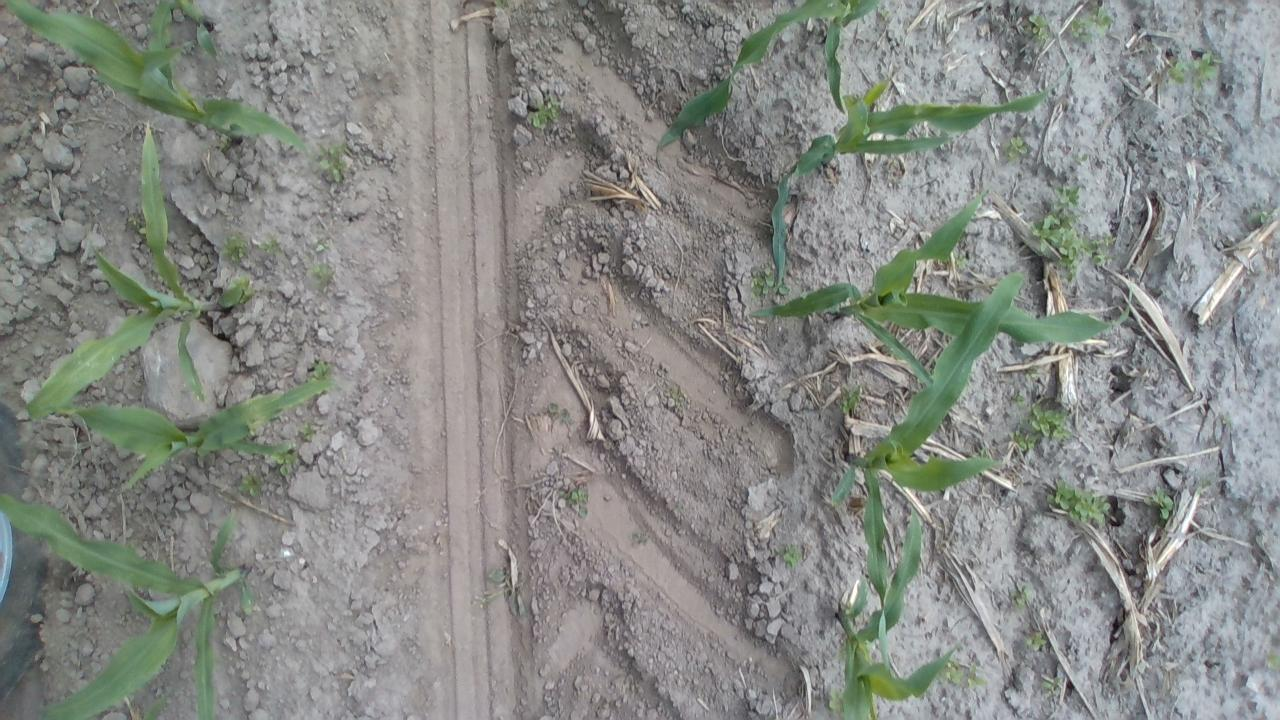Maize: (735, 166, 1134, 398), (828, 257, 1014, 652), (22, 115, 244, 420), (763, 55, 1049, 290), (0, 489, 258, 720), (2, 0, 320, 157), (43, 360, 337, 494), (652, 0, 878, 160), (830, 498, 950, 716), (155, 0, 224, 67), (138, 685, 183, 720)
Weeds: (1028, 201, 1087, 278), (1045, 478, 1110, 526), (1162, 48, 1222, 92), (312, 138, 357, 188), (1020, 404, 1074, 445), (1069, 4, 1114, 45), (481, 564, 515, 608), (939, 659, 988, 689), (523, 95, 561, 132), (1144, 486, 1178, 524), (747, 268, 786, 301), (562, 482, 592, 518), (1086, 232, 1117, 266), (1023, 12, 1053, 46), (1002, 134, 1034, 165), (217, 234, 250, 264), (237, 467, 266, 500), (838, 380, 863, 416), (778, 540, 806, 572), (270, 449, 296, 480), (1008, 428, 1039, 454), (1246, 201, 1276, 227), (1008, 581, 1033, 610), (306, 358, 336, 382), (1052, 182, 1082, 206), (311, 260, 334, 289), (824, 686, 846, 716), (1038, 673, 1064, 698), (547, 403, 573, 427), (125, 210, 149, 236), (666, 384, 688, 408), (1024, 630, 1048, 652), (1194, 474, 1215, 499), (258, 234, 280, 256), (628, 528, 652, 547), (298, 421, 317, 443), (952, 248, 969, 270), (1264, 648, 1278, 672), (216, 136, 233, 153), (314, 237, 331, 253), (1074, 151, 1092, 166), (1011, 393, 1028, 408), (1216, 414, 1234, 428), (1022, 367, 1037, 382), (878, 8, 892, 22)
